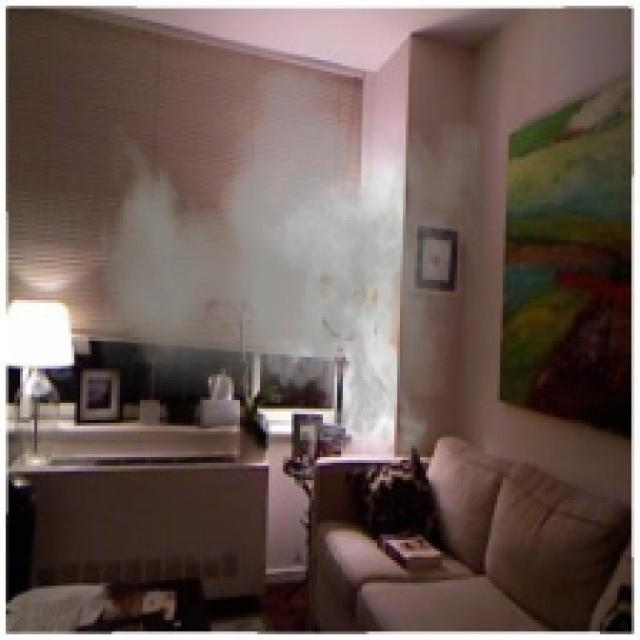Smoke: (94, 49, 480, 472)
